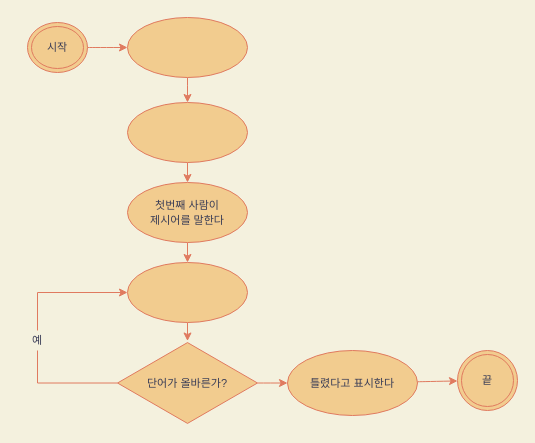
Some shapes in this 535 by 443 pixel diagram are drawn without their labels. Each missing label, with the centre of its shape:
"다음 사람이 단어를 말한다" goes at point (187, 292).
"몇 명이 참여할지 선택한다." goes at point (187, 47).
"참가자 순서를 정한다" goes at point (187, 132).
